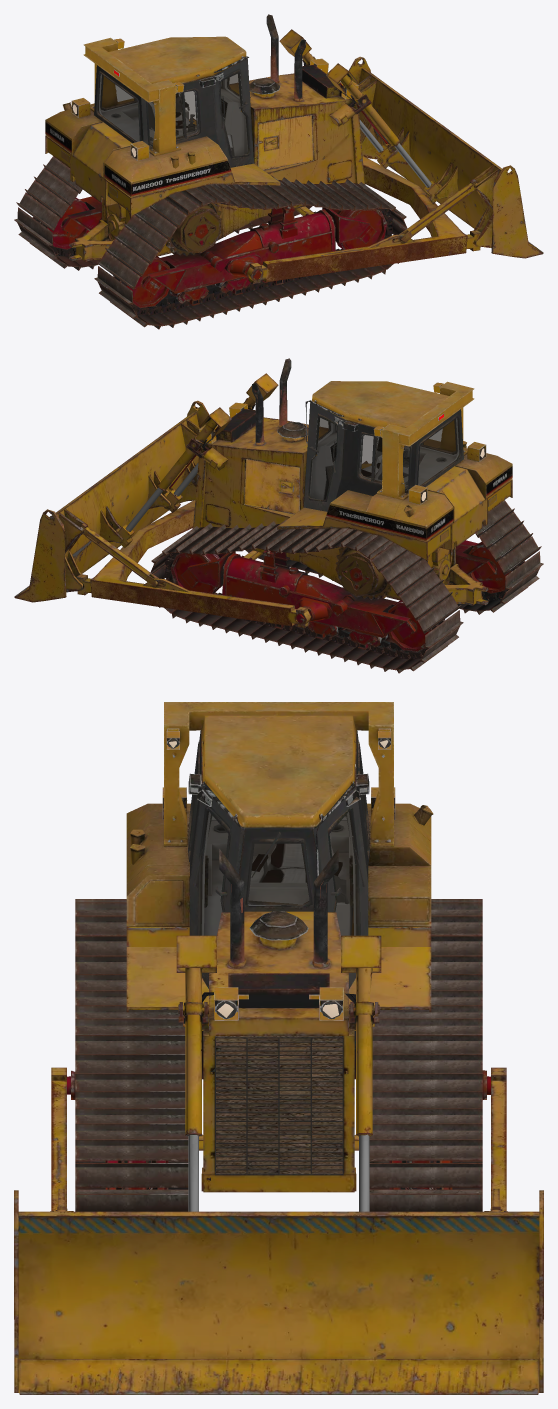
File: crawler-dozer-d6.glb
The picture shows the model from 3 angles, top to bottom: view 1: azimuth 30°, elevation 25°; view 2: azimuth 150°, elevation 25°; view 3: azimuth 270°, elevation 25°; orthographic projection. The views are drawn at different scales.
Visible parts, largest first — view 1: polySurface6463_blinn10_0, polySurface4093_blinn3_0, polySurface785_blinn14_0, polySurface4792_blinn8_0, polySurface4141_blinn6_0, polySurface4140_blinn7_0, polySurface4102_blinn5_0, polySurface2334_blinn13_0, polySurface2842_blinn15_0, polySurface6464_blinn11_0, polySurface568_phong1_0, polySurface1989_blinn12_0 (+2 smaller); view 2: polySurface6464_blinn11_0, polySurface4093_blinn3_0, polySurface785_blinn14_0, polySurface4878_blinn9_0, polySurface4141_blinn6_0, polySurface4140_blinn7_0, polySurface4102_blinn5_0, polySurface2334_blinn13_0, polySurface2842_blinn15_0, polySurface6463_blinn10_0, polySurface568_phong1_0, polySurface1989_blinn12_0 (+2 smaller); view 3: polySurface4102_blinn5_0, polySurface2842_blinn15_0, polySurface785_blinn14_0, polySurface6464_blinn11_0, polySurface6463_blinn10_0, polySurface4093_blinn3_0, polySurface4140_blinn7_0, polySurface2334_blinn13_0, polySurface568_phong1_0, polySurface1989_blinn12_0, polySurface4141_blinn6_0, polySurface4095_blinn4_0.
Boxes of the visible parts, box(x1,y1,x2,y2) form: polySurface6463_blinn10_0: box(94, 175, 407, 329); polySurface4093_blinn3_0: box(45, 65, 365, 236); polySurface785_blinn14_0: box(71, 36, 254, 167); polySurface4792_blinn8_0: box(119, 206, 387, 308); polySurface4141_blinn6_0: box(247, 56, 543, 283); polySurface4140_blinn7_0: box(69, 29, 467, 282); polySurface4102_blinn5_0: box(357, 60, 543, 257); polySurface2334_blinn13_0: box(96, 14, 358, 216); polySurface2842_blinn15_0: box(45, 98, 357, 198); polySurface6464_blinn11_0: box(14, 118, 312, 270); polySurface568_phong1_0: box(98, 73, 248, 155); polySurface1989_blinn12_0: box(99, 74, 247, 155); polySurface6464_blinn11_0: box(150, 519, 463, 673); polySurface4093_blinn3_0: box(192, 409, 512, 580); polySurface785_blinn14_0: box(303, 381, 486, 511); polySurface4878_blinn9_0: box(170, 550, 438, 652); polySurface4141_blinn6_0: box(14, 400, 310, 627); polySurface4140_blinn7_0: box(90, 373, 488, 626); polySurface4102_blinn5_0: box(14, 404, 200, 601); polySurface2334_blinn13_0: box(199, 358, 462, 559); polySurface2842_blinn15_0: box(200, 439, 512, 561); polySurface6463_blinn10_0: box(245, 461, 543, 614); polySurface568_phong1_0: box(309, 417, 459, 499); polySurface1989_blinn12_0: box(310, 418, 459, 499); polySurface4102_blinn5_0: box(14, 1211, 543, 1394); polySurface2842_blinn15_0: box(126, 803, 433, 1175); polySurface785_blinn14_0: box(162, 702, 395, 988); polySurface6464_blinn11_0: box(369, 899, 482, 1211); polySurface6463_blinn10_0: box(75, 899, 188, 1211); polySurface4093_blinn3_0: box(126, 730, 431, 1173); polySurface4140_blinn7_0: box(51, 935, 506, 1211); polySurface2334_blinn13_0: box(166, 728, 391, 1150); polySurface568_phong1_0: box(191, 764, 366, 935); polySurface1989_blinn12_0: box(204, 816, 353, 935); polySurface4141_blinn6_0: box(14, 1067, 543, 1392); polySurface4095_blinn4_0: box(126, 730, 431, 1192).
Size of the model in its own units: 6.1 by 3.18 by 3.95.
14 materials, 14 textured.
